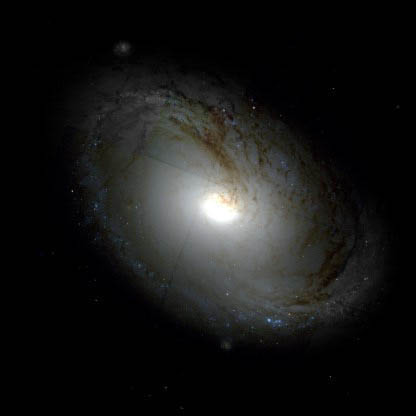Messier 96: (71, 38, 390, 345)
